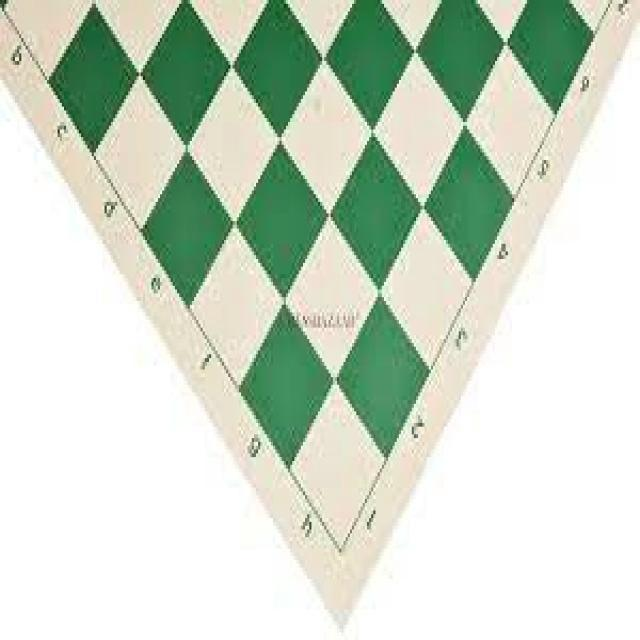chess-table-corners: (319, 510, 360, 577)
